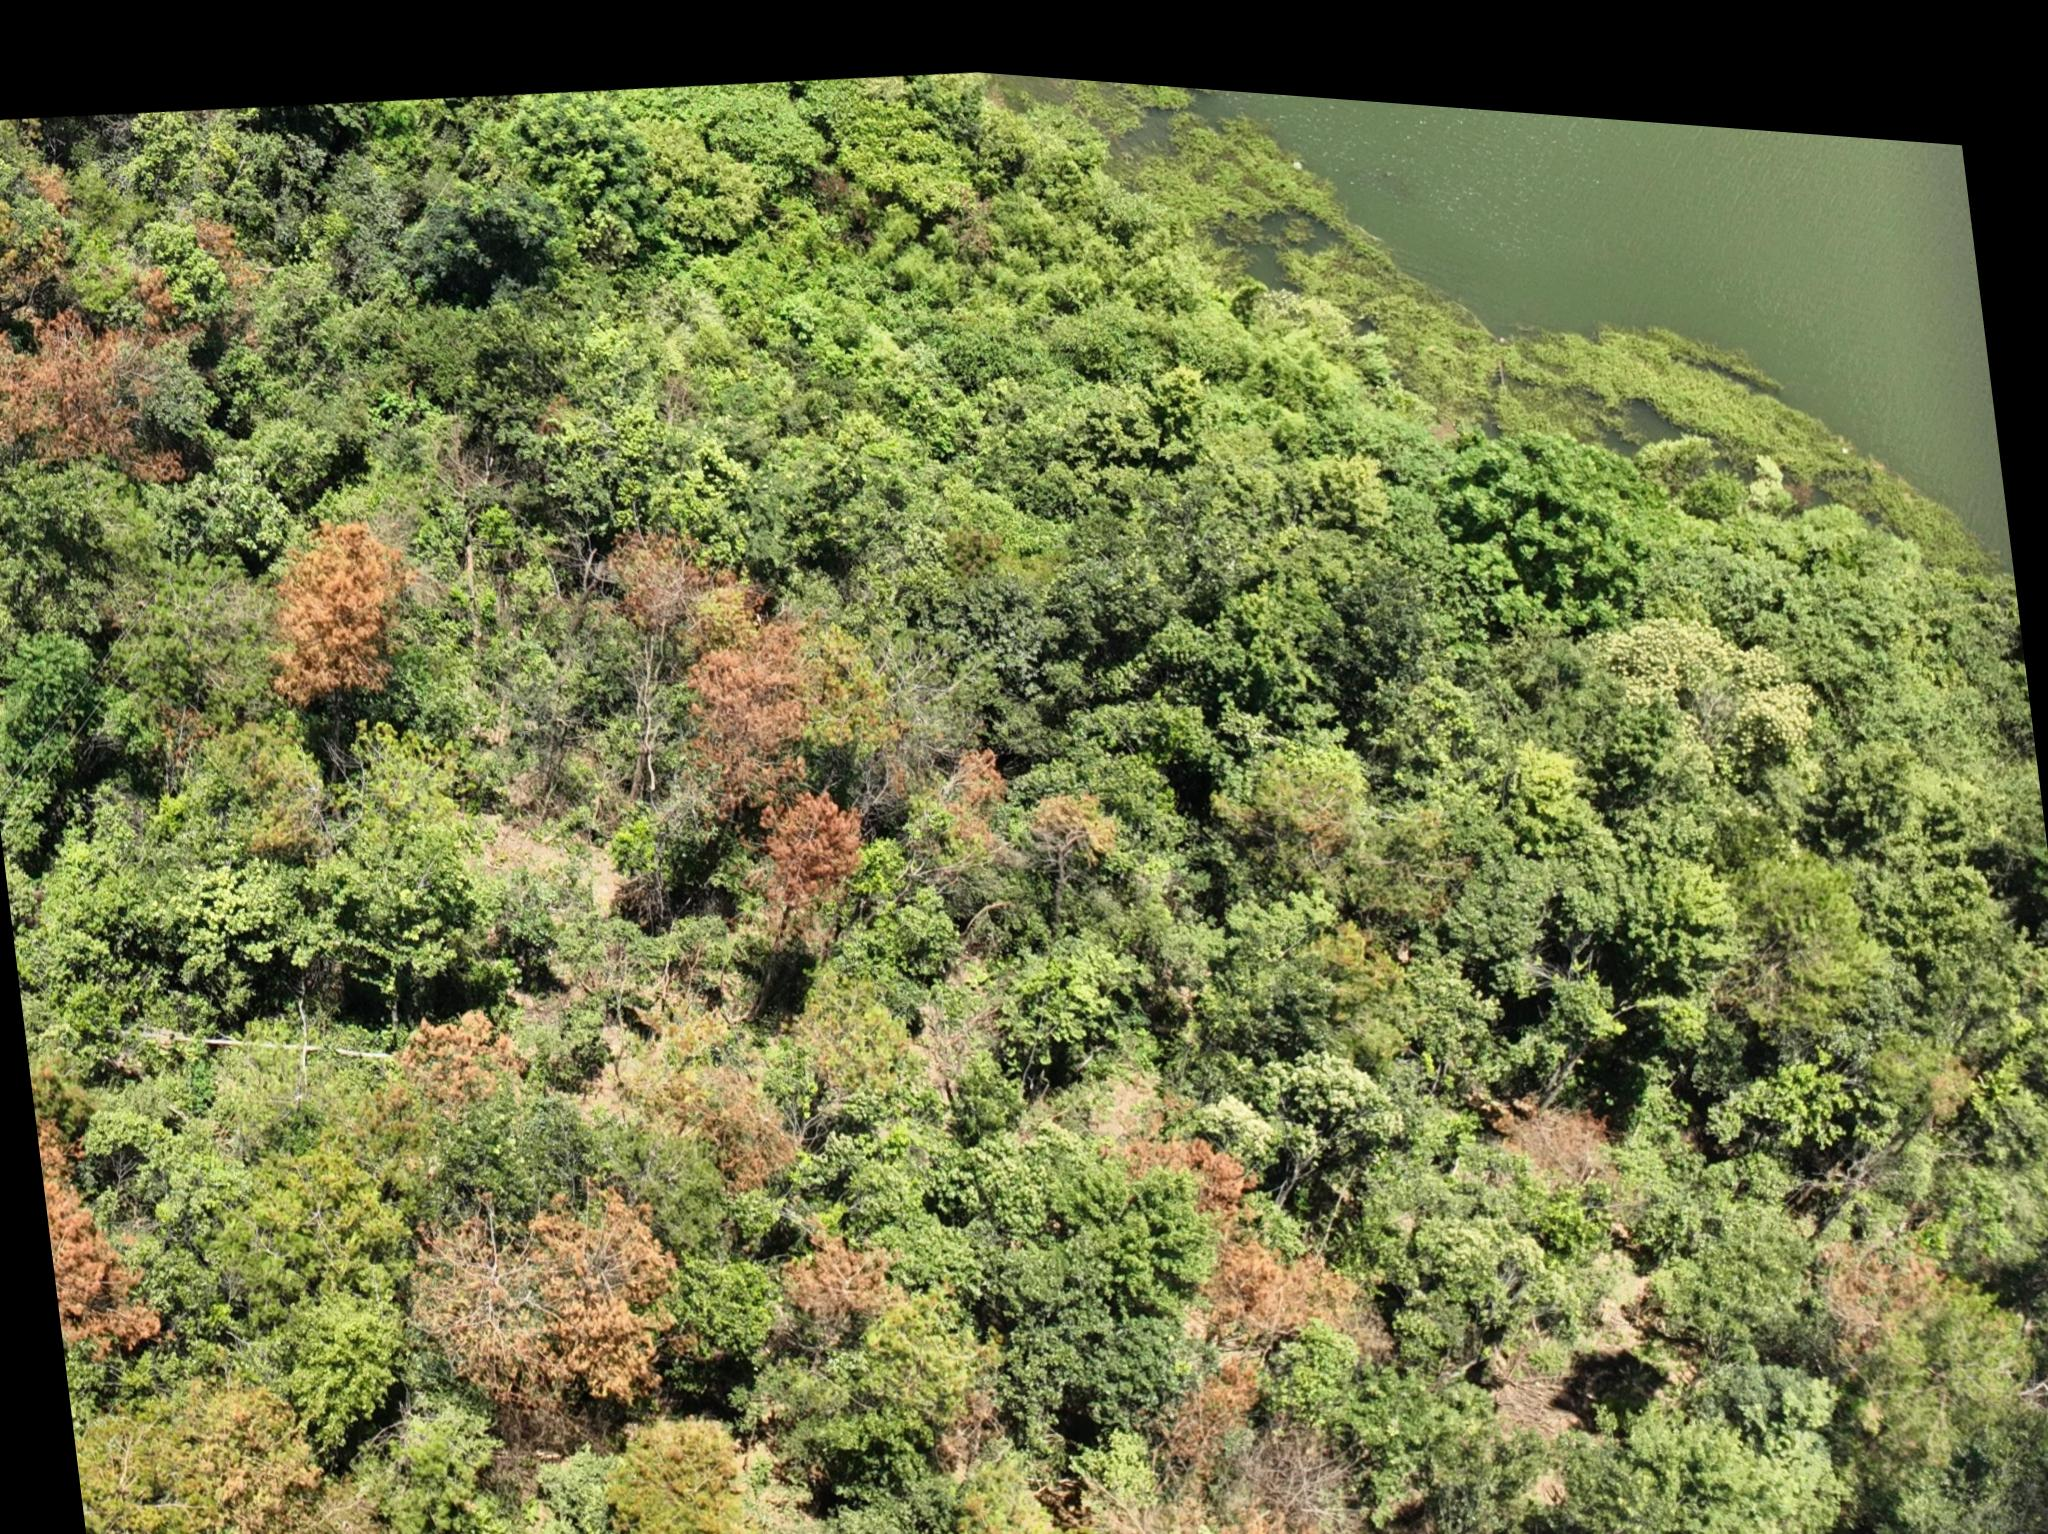heavy: (604, 493, 869, 925), (1139, 1092, 1368, 1450), (400, 1181, 685, 1420), (0, 288, 179, 509), (259, 487, 421, 704), (44, 1117, 155, 1363), (392, 997, 520, 1117), (780, 1205, 893, 1312), (922, 720, 1017, 838), (1207, 1473, 1389, 1534)
light: (588, 1391, 770, 1534), (0, 171, 63, 306)
